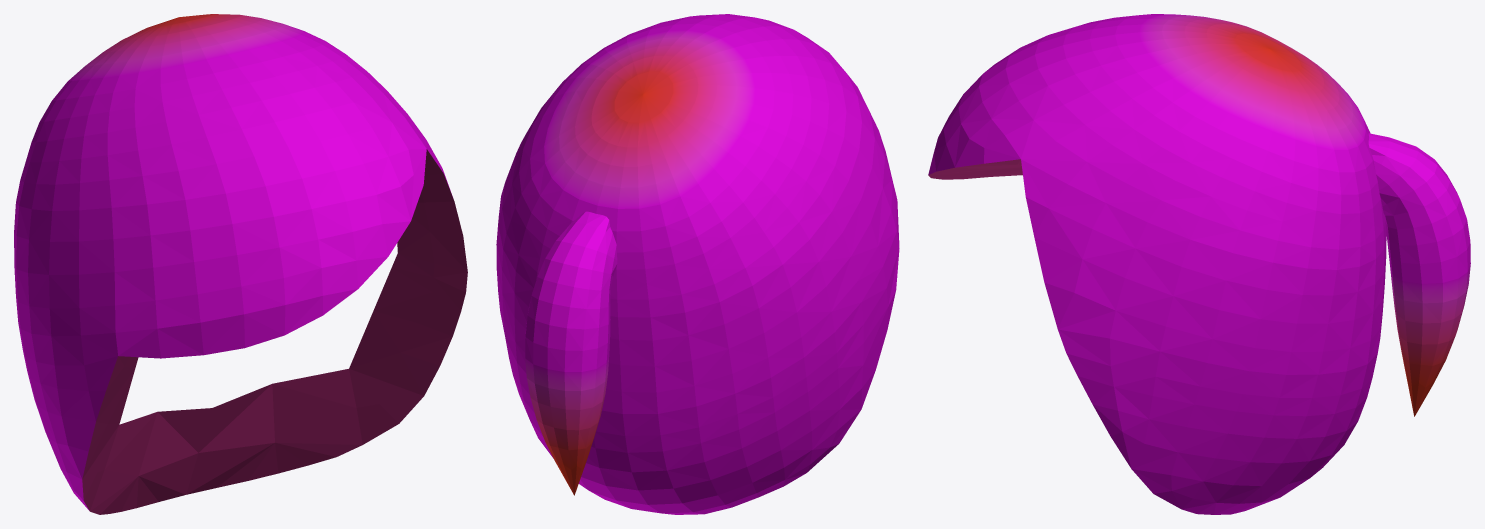
The picture shows the model from 3 angles, left to right: view 1: azimuth 30°, elevation 25°; view 2: azimuth 150°, elevation 25°; view 3: azimuth 270°, elevation 25°; orthographic projection. The views are drawn at different scales.
Parts seen in each view (by area): view 1: shape; view 2: shape; view 3: shape.
Boxes of the visible parts, x1,y1,x2,y2 form: shape: (14,14,467,514); shape: (496,14,899,514); shape: (928,14,1470,514).
Size of the model in its own units: 59.64 by 75.16 by 80.48.
